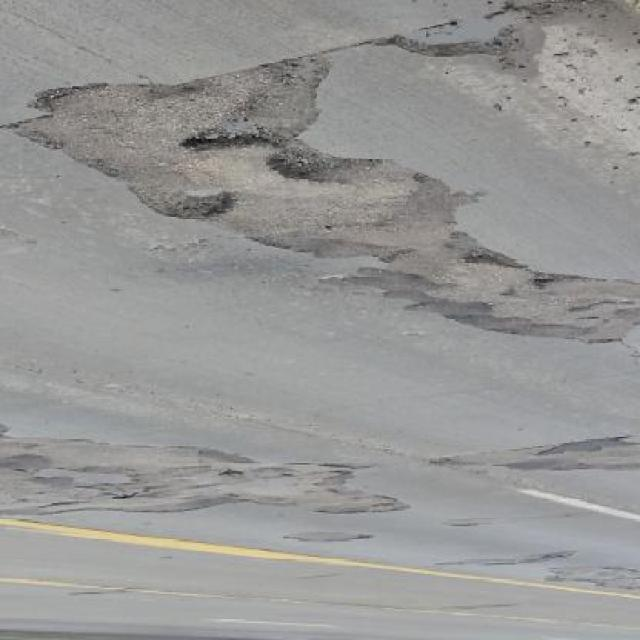pothole: (159, 189, 244, 222)
